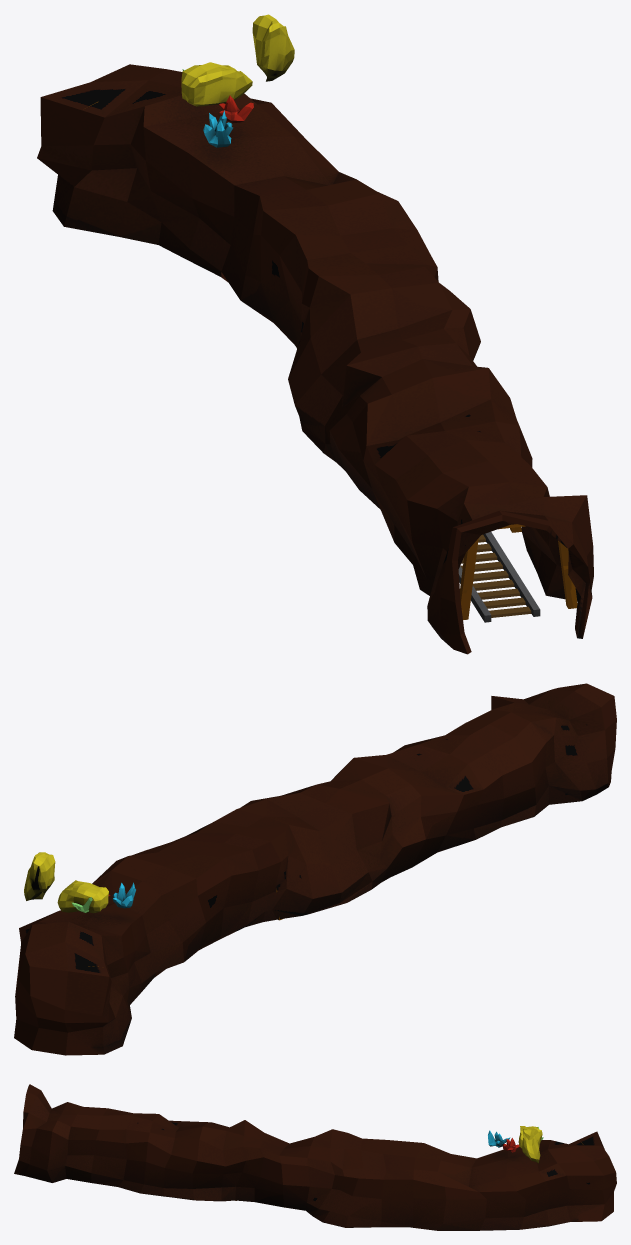
File: Mina.fbx
3 views of the same model, one above another, from view 1: azimuth 30°, elevation 25°; view 2: azimuth 150°, elevation 25°; view 3: azimuth 270°, elevation 25° (orthographic). The views are drawn at different scales.
Visible parts, largest first — view 1: Mina, Trilho, Gold, Gold.001, Pilares; view 2: Mina, Gold, Gold.001; view 3: Mina, Gold.001, Saphire.
Part boxes in pixels (<box>): Mina: <box>37,64,593,654</box>; Trilho: <box>458,531,540,622</box>; Gold: <box>181,62,252,106</box>; Gold.001: <box>252,14,294,81</box>; Pilares: <box>85,101,577,620</box>; Mina: <box>14,683,616,1055</box>; Gold: <box>57,880,108,913</box>; Gold.001: <box>24,852,55,900</box>; Mina: <box>14,1084,616,1230</box>; Gold.001: <box>522,1128,542,1163</box>; Saphire: <box>488,1130,510,1147</box>.
Size of the model in its own units: 5085 by 2841 by 15249.
9 materials, 6 textured.
